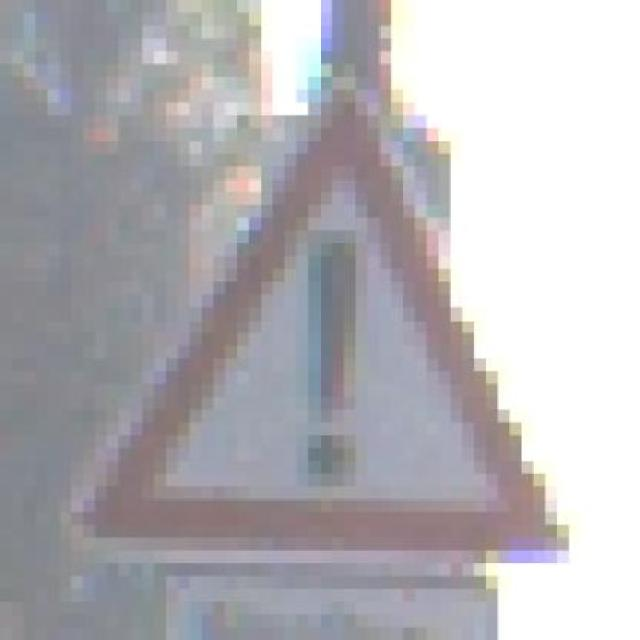Attention Please-: (71, 90, 592, 576)
